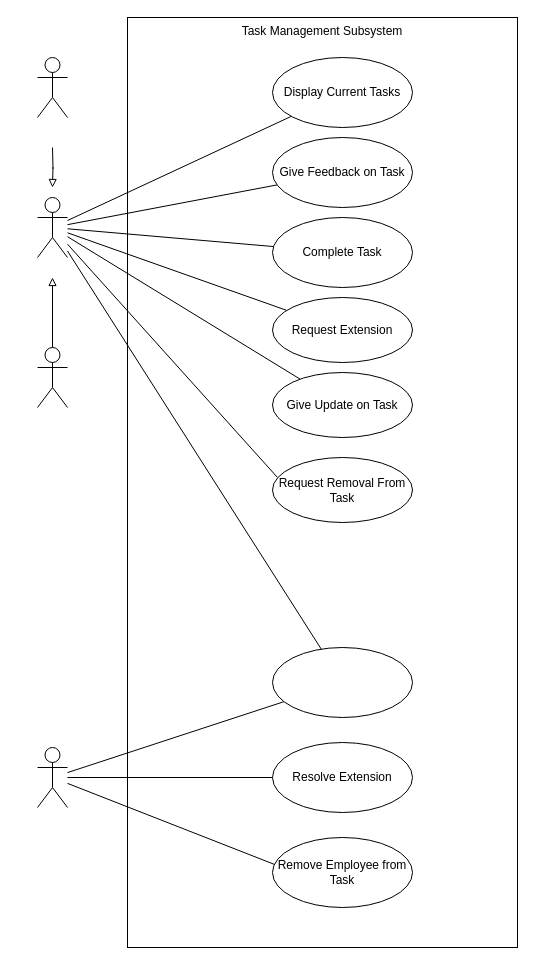
Image size: 535x965. Some labels were removed from this diagram. Each missing label, with the centre of its shape:
"Administrator" belongs at point 52,777.
"Contractor" belongs at point 52,87.
"Employee" belongs at point 52,227.
"Rate Employee" belongs at point 342,682.
"Supervisor" belongs at point 52,377.
